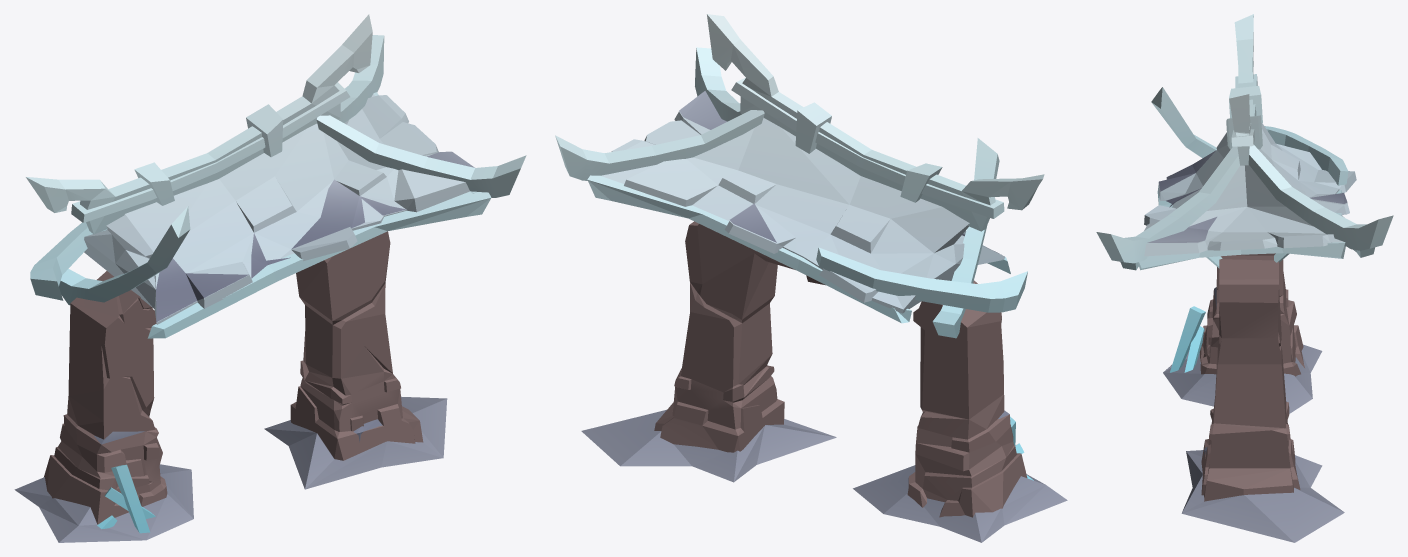
File: SubDecoration_3.fbx
The picture shows the model from 3 angles, left to right: view 1: azimuth 30°, elevation 25°; view 2: azimuth 150°, elevation 25°; view 3: azimuth 270°, elevation 25°; orthographic projection. The views are drawn at different scales.
Visible parts, largest first — view 1: terrain_door_204_LOD0; view 2: terrain_door_204_LOD0; view 3: terrain_door_204_LOD0.
Boxes of the visible parts, <box> form: terrain_door_204_LOD0: <box>14,14,526,542</box>; terrain_door_204_LOD0: <box>555,14,1067,542</box>; terrain_door_204_LOD0: <box>1096,14,1393,542</box>.
Bounding box in the file's own units: 1516 × 1409 × 936.
Materials: 1 (1 with a texture image).
